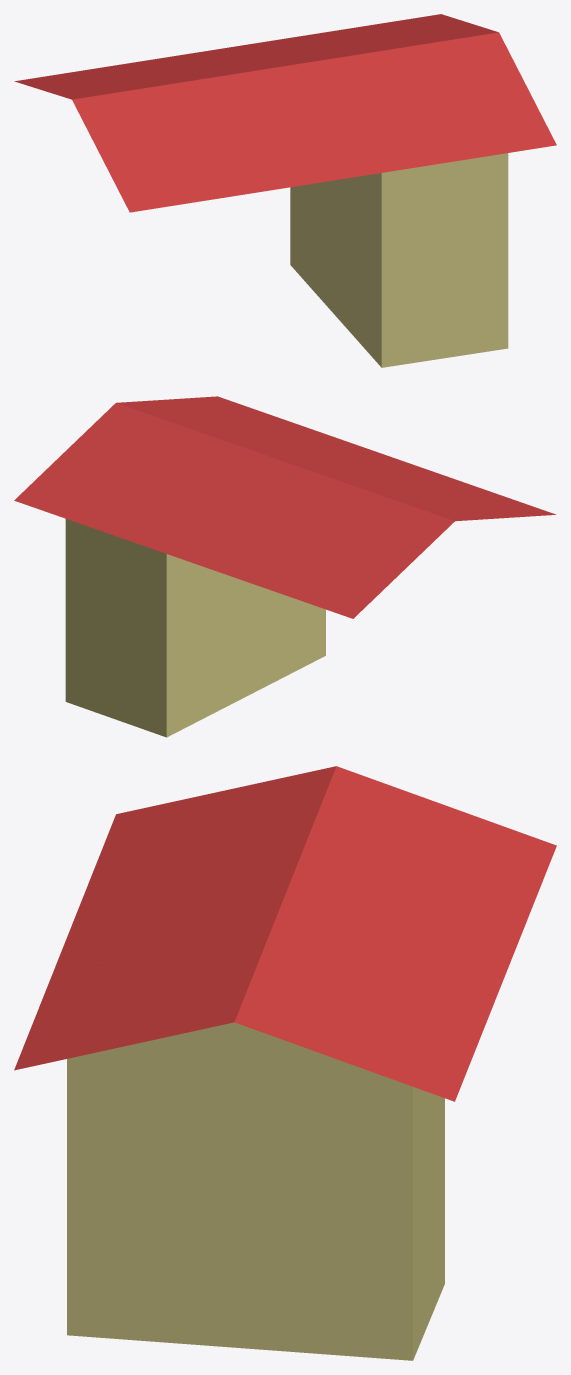
3 views of the same model, one above another, from view 1: azimuth 30°, elevation 25°; view 2: azimuth 150°, elevation 25°; view 3: azimuth 270°, elevation 25° (orthographic). The views are drawn at different scales.
Size of the model in its own units: 11.77 by 9.39 by 6.64.
